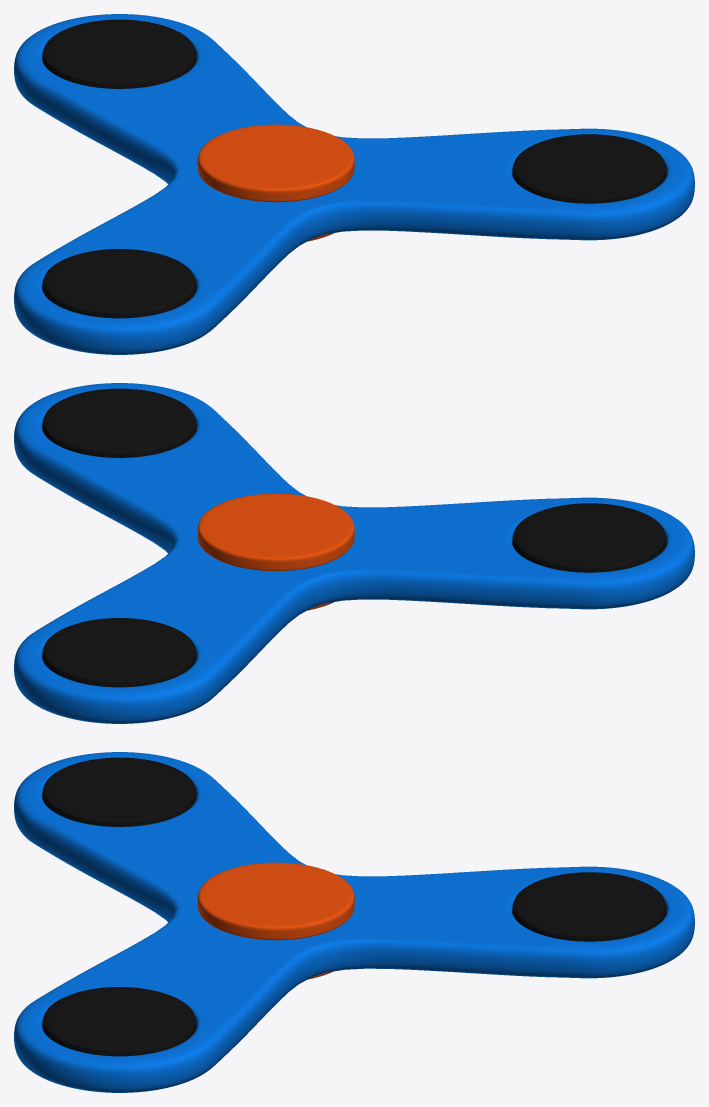
The model's file is Spinner.fbx.
3 renders of one model, top to bottom at view 1: azimuth 30°, elevation 25°; view 2: azimuth 150°, elevation 25°; view 3: azimuth 270°, elevation 25°, orthographic.
Visible parts, largest first — view 1: Spinner001; view 2: Spinner001; view 3: Spinner001.
Part boxes in pixels (left/top/right/bottom): Spinner001: left=14, top=14, right=694, bottom=354; Spinner001: left=14, top=383, right=694, bottom=723; Spinner001: left=14, top=752, right=694, bottom=1092.
Bounding box in the file's own units: 10 × 0.8172 × 9.04.
